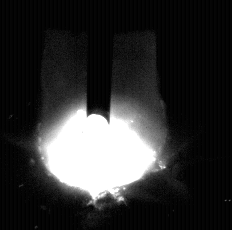arame: (88, 0, 112, 124)
poca: (37, 0, 167, 230)
